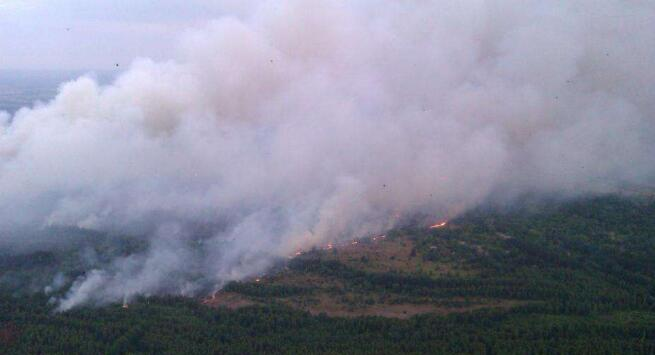smoke: (2, 1, 655, 311)
